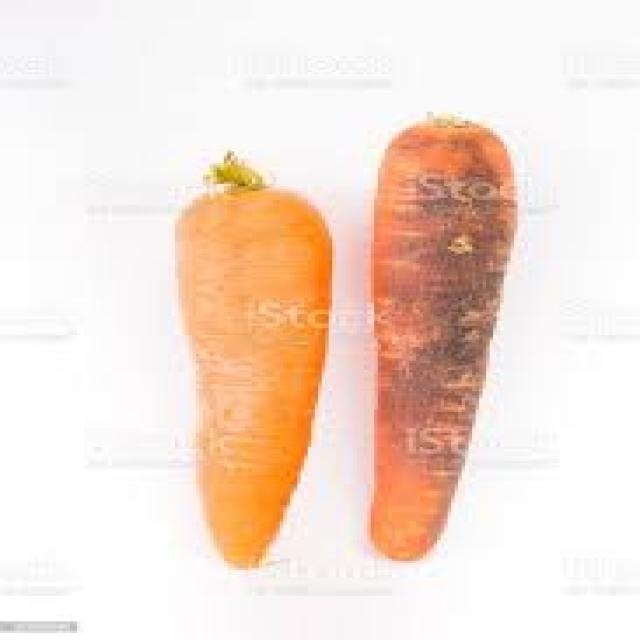Fresh_Carrot: (163, 161, 333, 572)
Stale_Carrot: (358, 111, 510, 565)
